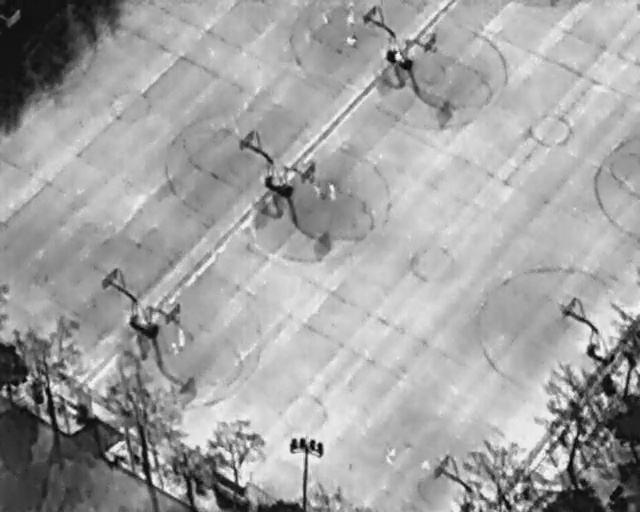Person: (385, 444, 395, 462), (178, 324, 185, 349), (348, 1, 354, 27), (328, 178, 335, 200), (346, 32, 357, 44), (171, 341, 178, 357), (321, 11, 329, 25)
